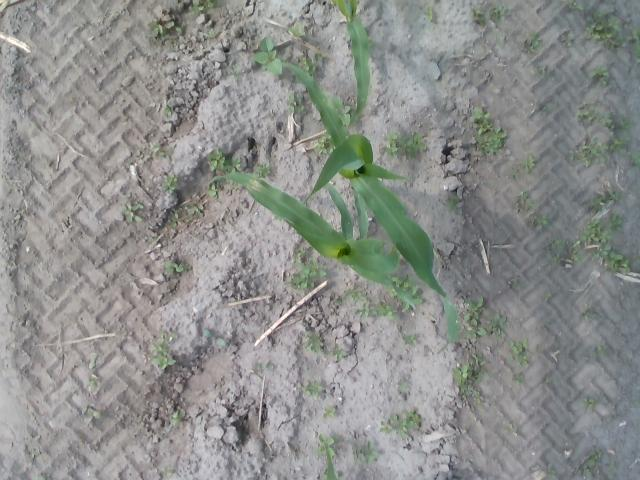Maize: (281, 63, 458, 354), (205, 172, 418, 313), (331, 0, 371, 128), (324, 445, 336, 480)
Weeds: (568, 218, 633, 274), (568, 133, 630, 167), (280, 248, 326, 292), (452, 352, 488, 408), (471, 106, 506, 155), (586, 12, 624, 51), (252, 37, 286, 77), (379, 407, 420, 439), (382, 131, 427, 159), (461, 296, 488, 338), (151, 329, 178, 370), (354, 301, 402, 321), (586, 188, 620, 214), (120, 194, 144, 224), (577, 448, 600, 478), (515, 188, 539, 216), (146, 22, 182, 40), (314, 433, 338, 458), (509, 338, 530, 366), (332, 98, 352, 126), (301, 331, 324, 355), (298, 52, 322, 74), (522, 31, 543, 54), (164, 260, 188, 280), (286, 94, 307, 116), (206, 148, 224, 172), (190, 0, 216, 16), (578, 104, 596, 127), (364, 440, 382, 463), (203, 328, 225, 346), (441, 192, 460, 212), (303, 380, 322, 400), (314, 134, 333, 154), (628, 26, 640, 57), (224, 155, 242, 174), (226, 63, 243, 83), (346, 288, 370, 302), (392, 272, 413, 288), (488, 314, 506, 332), (471, 6, 487, 26), (528, 214, 548, 230), (351, 441, 364, 465), (330, 343, 347, 361), (599, 108, 614, 128), (614, 115, 634, 130), (81, 406, 102, 420), (162, 174, 178, 192), (609, 214, 624, 233), (87, 375, 102, 394), (286, 23, 306, 37), (588, 68, 611, 80), (490, 5, 506, 22), (254, 162, 271, 178), (400, 334, 420, 347), (410, 286, 424, 304), (186, 202, 206, 214), (501, 420, 517, 435), (150, 142, 164, 158), (171, 208, 182, 228), (525, 153, 537, 171), (605, 462, 618, 478), (566, 1, 586, 11), (170, 410, 184, 424), (562, 33, 575, 48), (511, 168, 524, 182), (160, 466, 175, 478), (580, 398, 596, 409), (398, 378, 409, 394), (208, 182, 219, 198), (203, 29, 221, 38), (592, 344, 608, 354), (629, 152, 640, 166), (323, 406, 335, 418), (425, 6, 435, 20), (544, 468, 555, 480), (532, 65, 545, 75), (264, 361, 274, 373), (544, 292, 554, 303), (334, 296, 344, 307), (89, 360, 99, 371), (552, 238, 562, 248), (513, 372, 523, 382), (539, 103, 549, 112), (163, 107, 173, 116), (136, 150, 144, 160), (582, 310, 590, 318), (553, 254, 560, 263), (511, 276, 519, 283), (256, 364, 262, 372), (368, 38, 374, 46), (146, 238, 153, 243), (546, 376, 550, 382)
